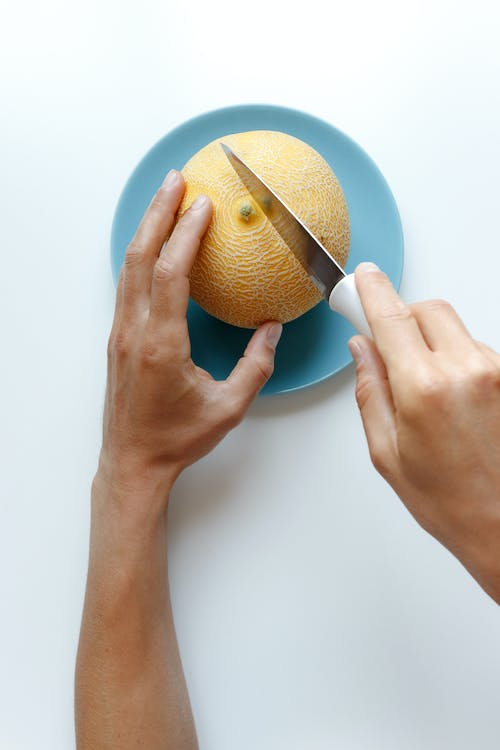knife: (218, 141, 373, 339)
